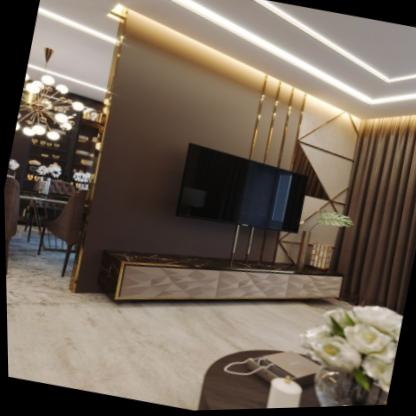Ceramic floor: (5, 257, 346, 412)
